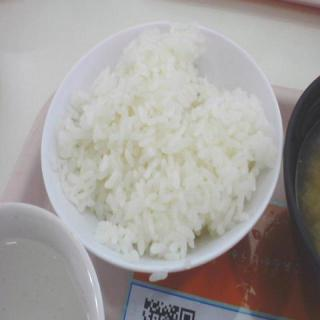Nasi: (50, 20, 280, 262)
